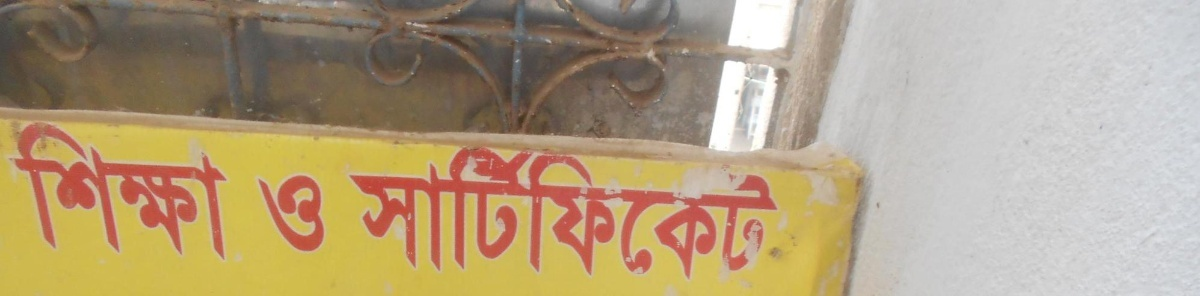text: (353, 131, 368, 283), (369, 131, 384, 283), (385, 131, 400, 283), (401, 131, 416, 283), (417, 131, 432, 283), (433, 131, 448, 283), (449, 131, 464, 283), (465, 131, 480, 283), (481, 131, 496, 283), (497, 131, 512, 283), (513, 131, 528, 283), (529, 131, 544, 283), (545, 131, 560, 283), (561, 131, 576, 283), (577, 131, 592, 283), (593, 131, 608, 283), (609, 131, 624, 283), (625, 131, 640, 283), (641, 131, 656, 283), (657, 131, 672, 283), (673, 131, 688, 283), (689, 131, 704, 283), (705, 131, 720, 283), (721, 131, 736, 283), (737, 131, 752, 283), (753, 131, 768, 283), (17, 116, 32, 262), (33, 116, 48, 262), (49, 116, 64, 262), (65, 116, 80, 262), (81, 116, 96, 262), (97, 116, 112, 262), (113, 116, 128, 262), (129, 116, 144, 262), (145, 116, 160, 262), (161, 116, 176, 262), (177, 116, 192, 262), (193, 116, 208, 262), (209, 116, 224, 262), (769, 131, 782, 283), (225, 116, 234, 262), (344, 131, 352, 283), (273, 173, 288, 253), (289, 173, 304, 253), (305, 173, 320, 253), (259, 173, 272, 253), (9, 116, 16, 262), (321, 173, 325, 253)
